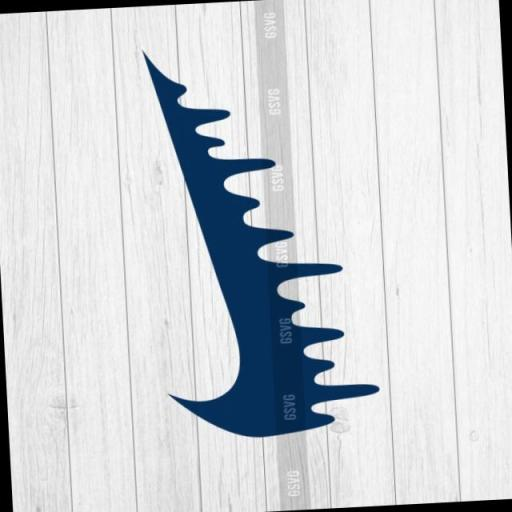Nike: (137, 38, 322, 440)
